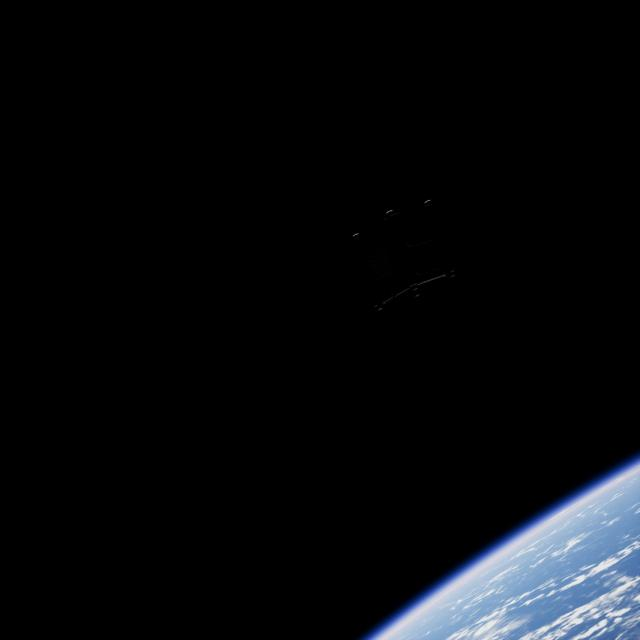satellite: (346, 189, 480, 325)
